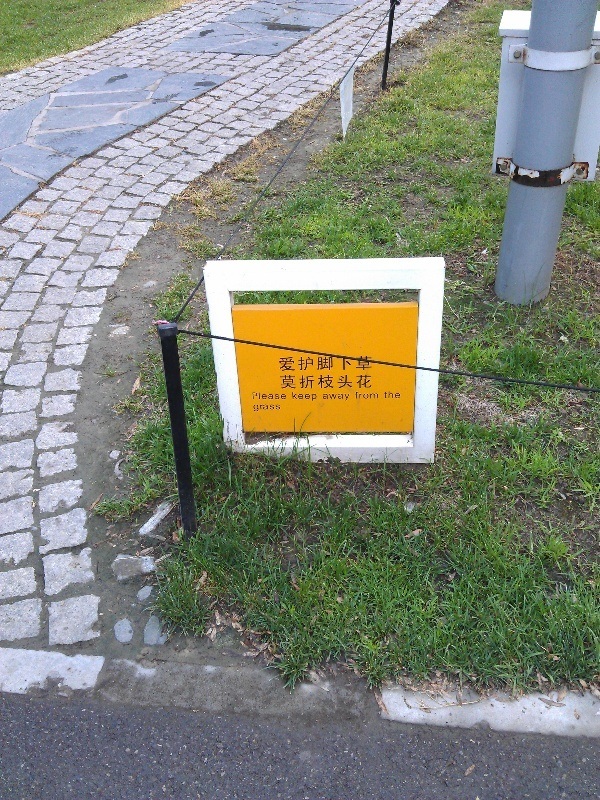text: (289, 355, 304, 372), (305, 355, 320, 372), (321, 355, 336, 372), (337, 355, 352, 372), (353, 355, 368, 372), (289, 374, 304, 390), (305, 374, 320, 390), (321, 374, 336, 390), (337, 374, 352, 390), (353, 374, 368, 390), (279, 355, 288, 372), (385, 391, 401, 400), (257, 392, 272, 401), (273, 392, 288, 401), (257, 404, 272, 413), (305, 392, 318, 402), (280, 374, 288, 390), (292, 392, 304, 402), (323, 393, 336, 402), (337, 393, 350, 402), (355, 391, 368, 400), (369, 391, 379, 400), (273, 404, 281, 413), (369, 355, 373, 372), (369, 374, 372, 390), (252, 392, 256, 401), (253, 404, 256, 413)
